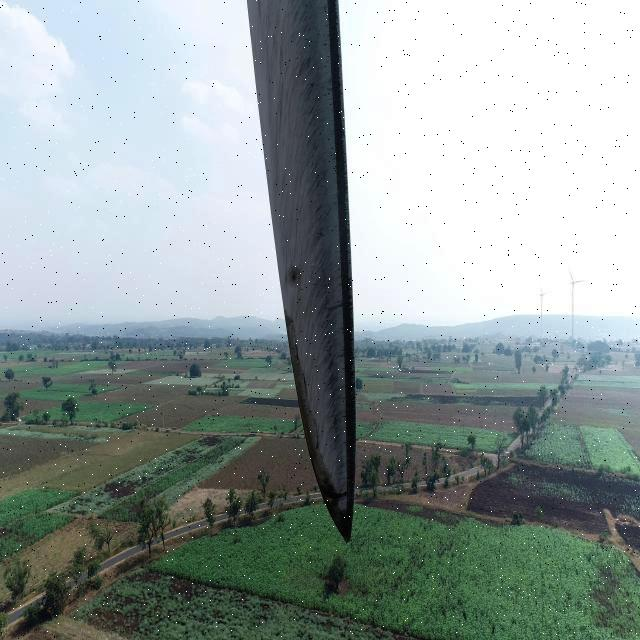Dirt: (247, 0, 359, 538)
Oil LEAKAGE: (284, 316, 360, 542)
Pin Hole: (284, 264, 303, 286)
